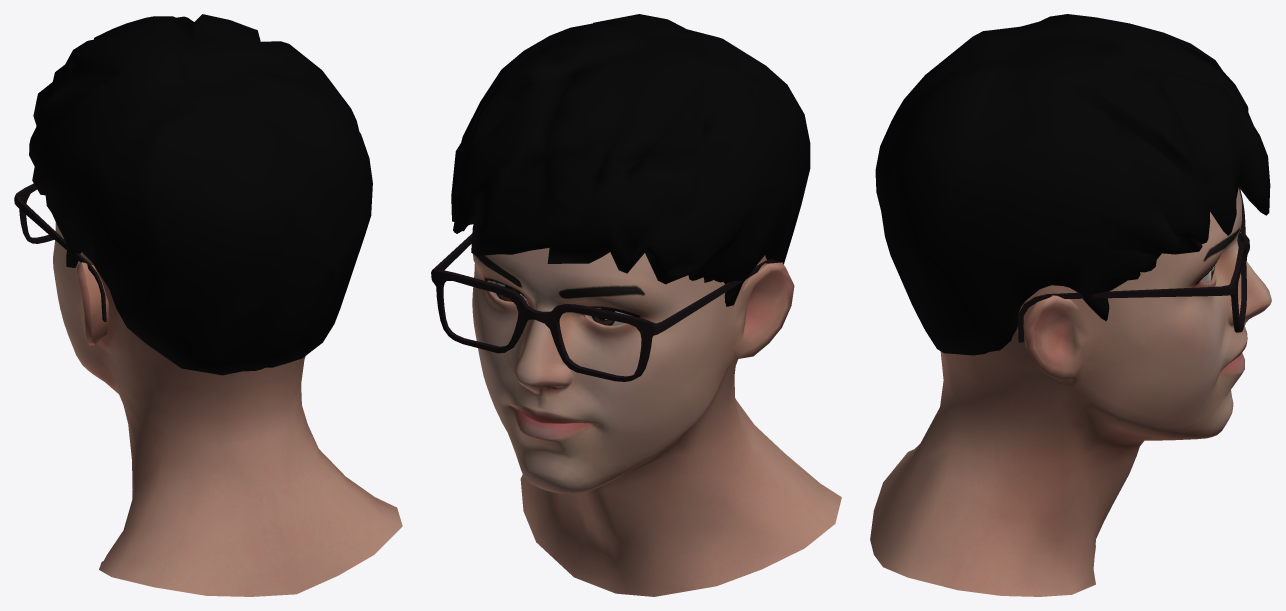
Rendered from av_faisal_head.glb.
The picture shows the model from 3 angles, left to right: view 1: azimuth 30°, elevation 25°; view 2: azimuth 150°, elevation 25°; view 3: azimuth 270°, elevation 25°; orthographic projection. The views are drawn at different scales.
Visible parts, largest first — view 1: EyeLeft; view 2: EyeLeft; view 3: EyeLeft.
Part boxes in pixels (x1,y1,x2,y2): EyeLeft: (14,14,402,596); EyeLeft: (431,14,841,596); EyeLeft: (870,14,1271,596).
Size of the model in its own units: 0.3838 by 0.6634 by 0.4524.
Materials: 4 (4 with a texture image).
